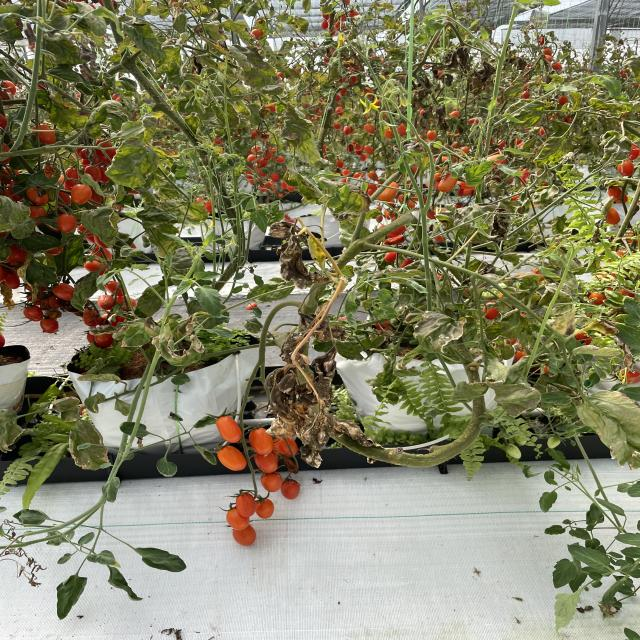Obstacle: (306, 197, 640, 409)
Soilbag: (338, 332, 514, 449), (78, 336, 256, 450)
Tomato: (7, 116, 126, 333)
plant: (0, 0, 237, 333)
